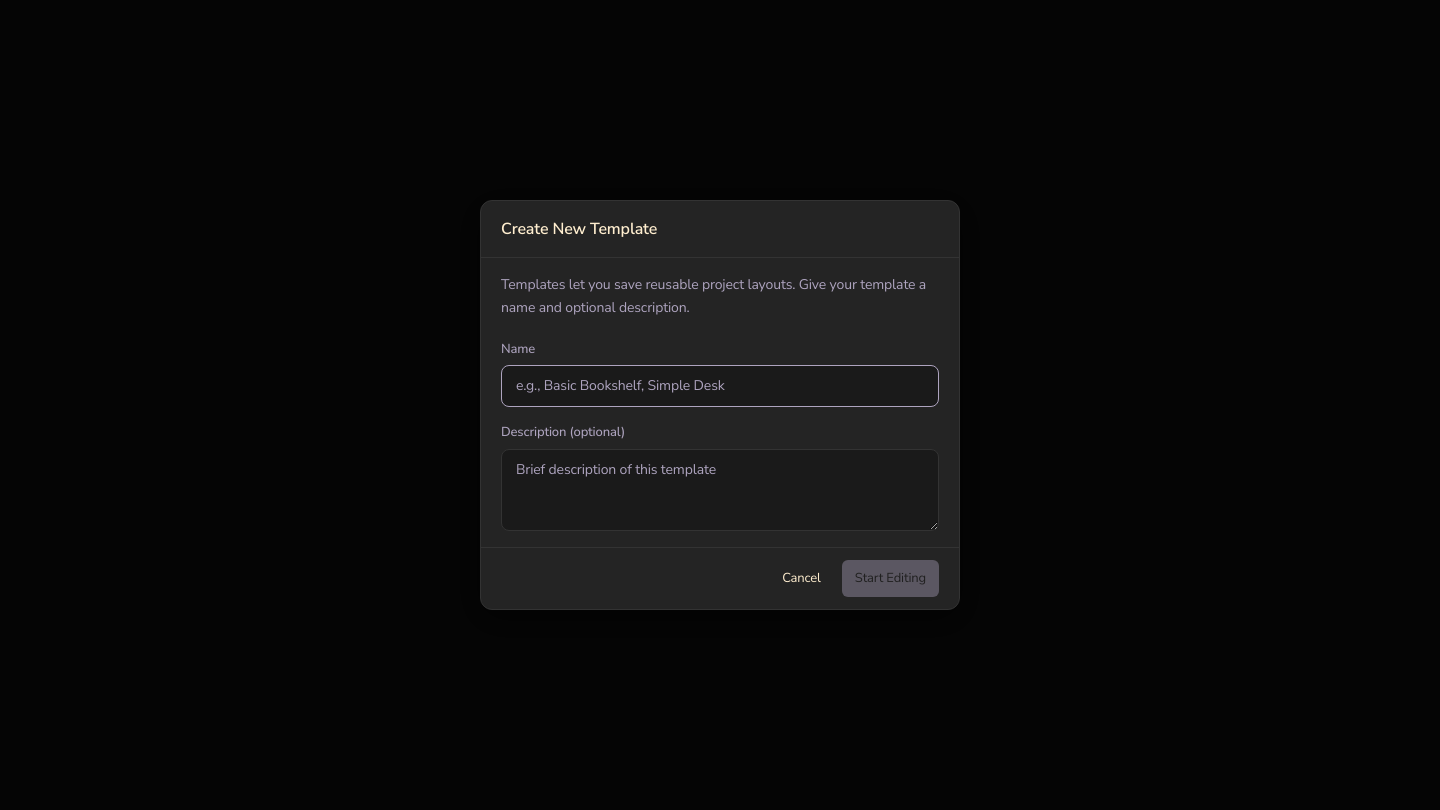
Test case: TemplateSetupDialog › form interactions › enables Start Editing button when name is entered
Check: the button "Start Editing" is disabled, box [842, 560, 939, 597]
Type "My Template" into the field labelled "Name" at (720, 386), box [501, 365, 939, 407]
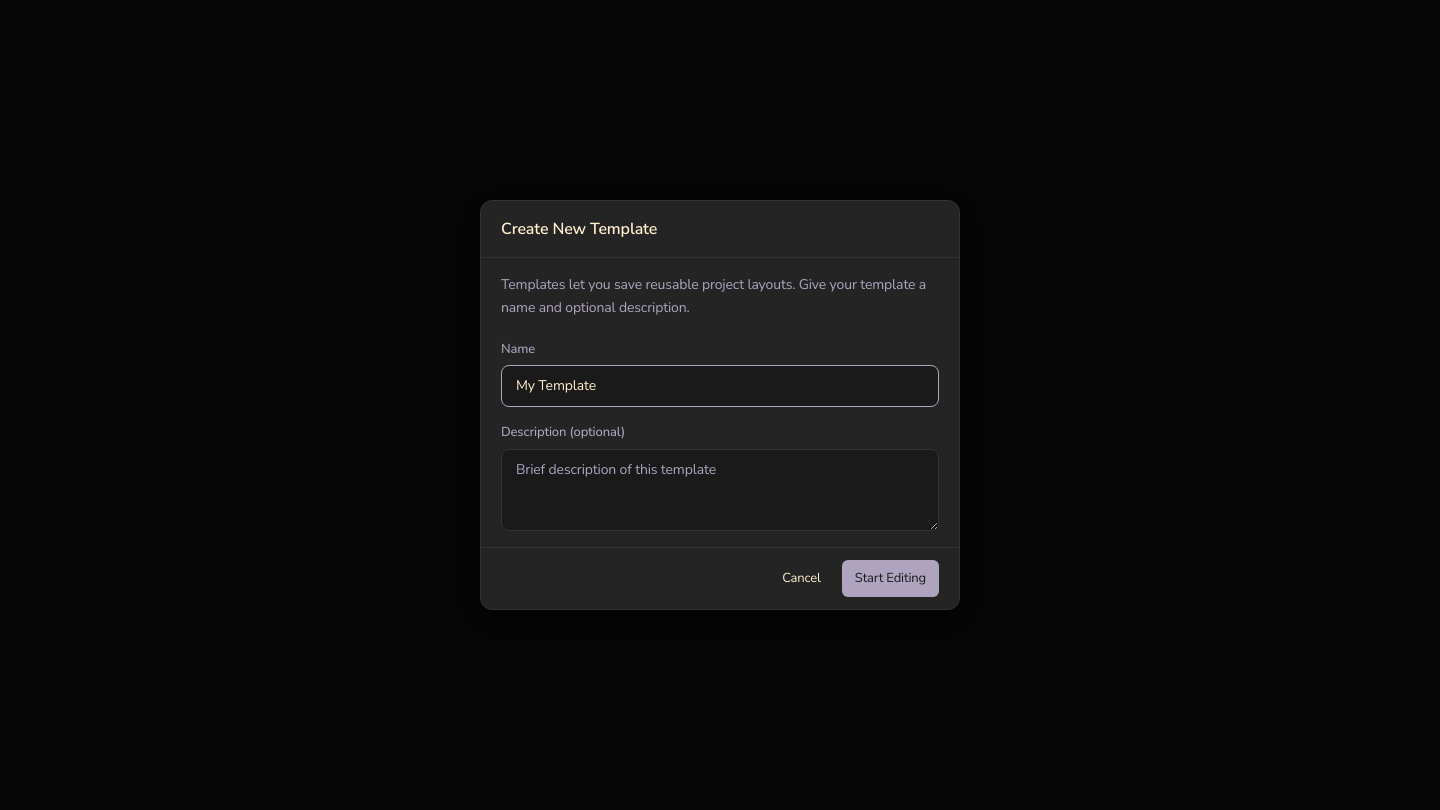
Check: the button "Start Editing" is enabled, box [842, 560, 939, 597]
